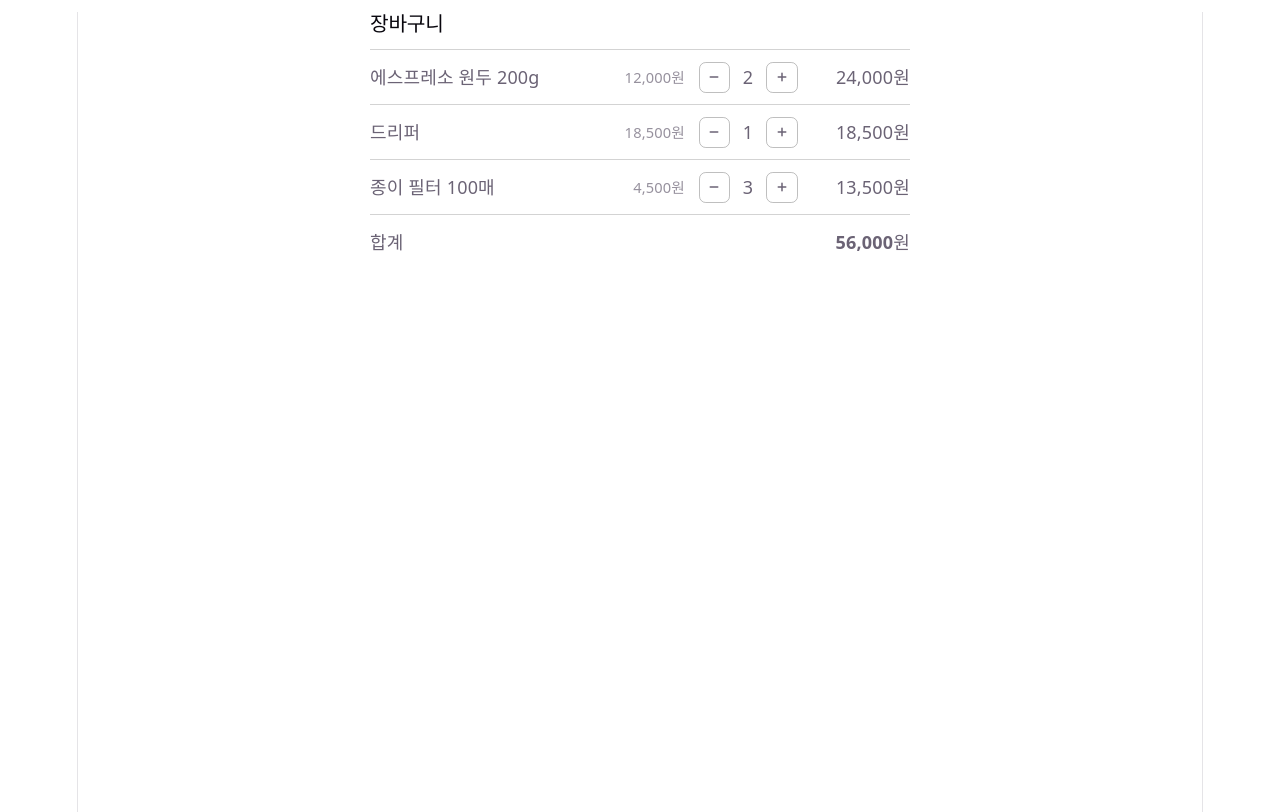
Test: EV11: 수량 0이 된 줄은 합계에 기여하지 않는다
The width and height of the screenshot is (1280, 812).
Click the button named "드리퍼 수량 감소" at (714, 132), box [698, 117, 730, 148]
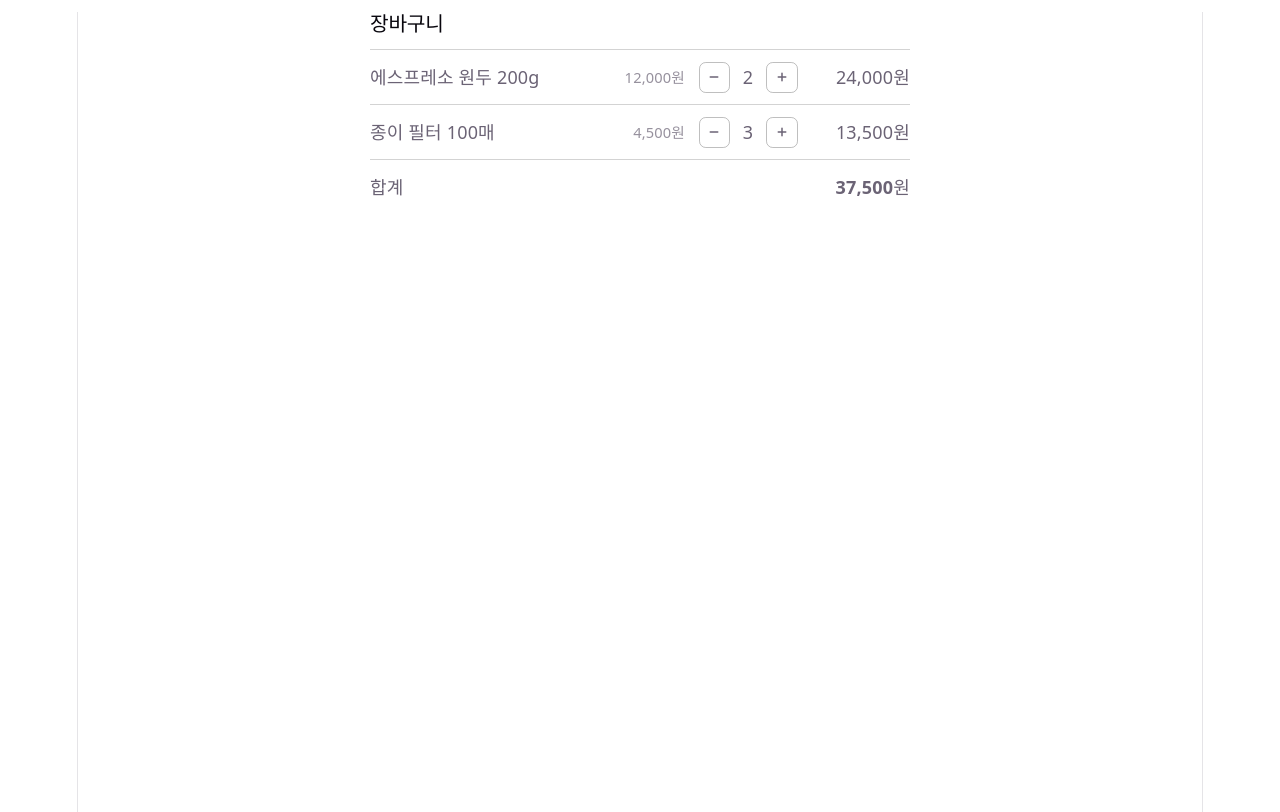
Check: the text with test id "cart-total" reads "37,500원", box [836, 175, 910, 199]
